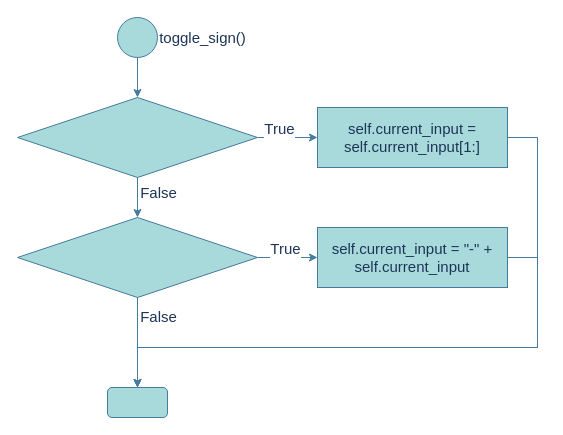
This 563x435 diagram has some shape labels left out. The shapes that lost their labels are listed below. From the top down, each one's centre as x and y in pixels, then its label:
pixel 137 137: self.current_input.startswith("-")
pixel 137 257: self.current_input
